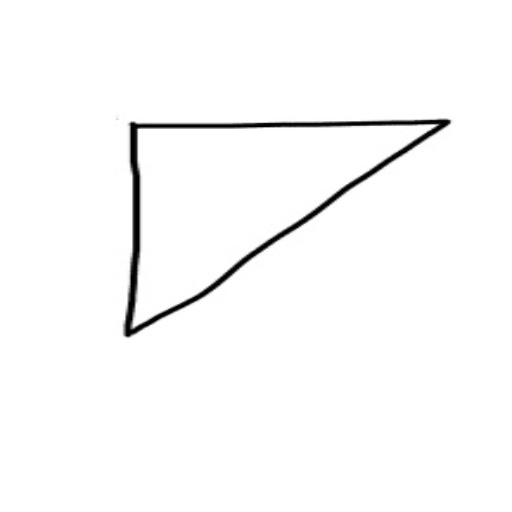triangle: (115, 107, 459, 340)
